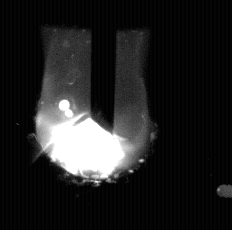arame: (92, 0, 115, 135)
poca: (37, 0, 150, 230)
